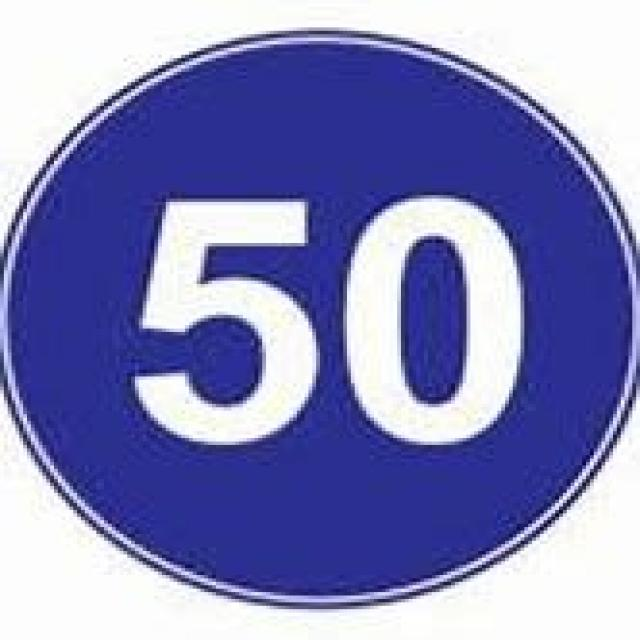COMPULSARY_MINIMUM_SPEED: (0, 24, 636, 606)
